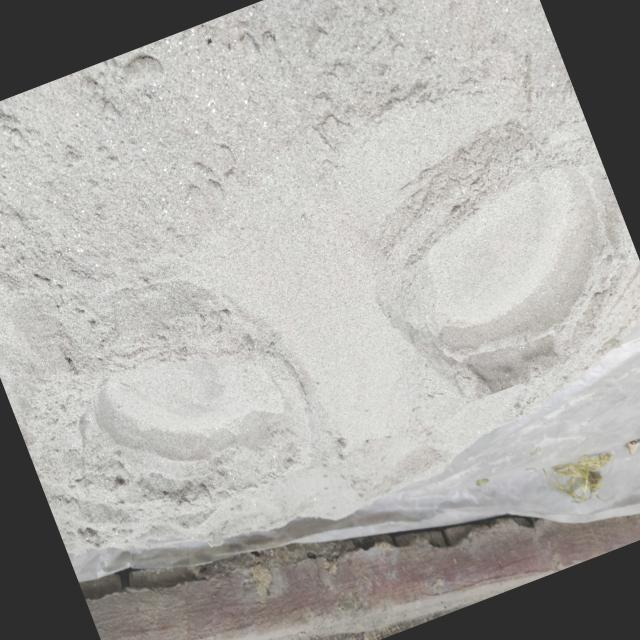C20: (392, 143, 611, 399), (96, 347, 309, 506)
